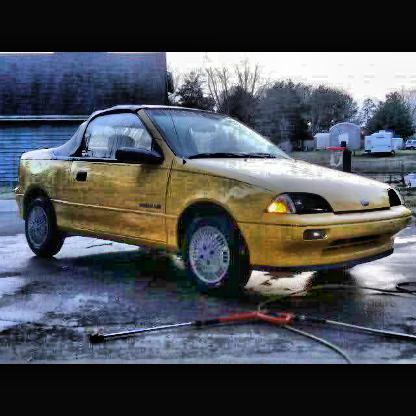Geo Metro Convertible 1993: (15, 107, 412, 296)
